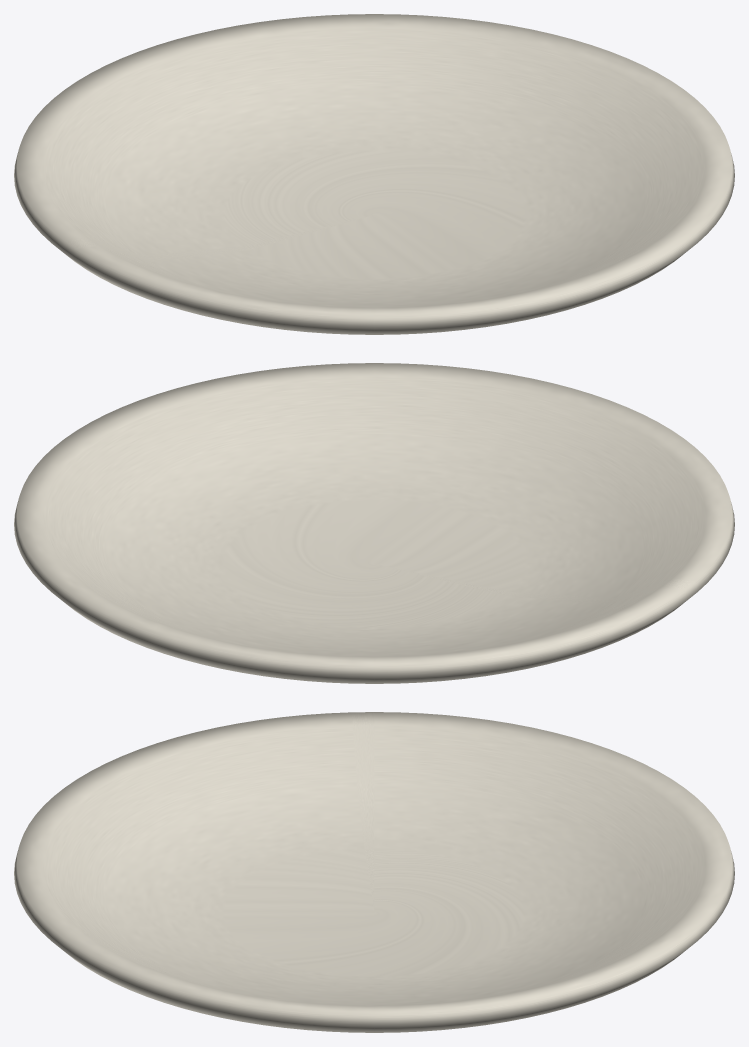
File: intact.glb
3 renders of one model, top to bottom at view 1: azimuth 30°, elevation 25°; view 2: azimuth 150°, elevation 25°; view 3: azimuth 270°, elevation 25°, orthographic.
Parts seen in each view (by area): view 1: plate-component-000-ivory; view 2: plate-component-000-ivory; view 3: plate-component-000-ivory.
Part boxes in pixels (<box>): plate-component-000-ivory: <box>14,14,734,334</box>; plate-component-000-ivory: <box>14,363,734,683</box>; plate-component-000-ivory: <box>14,712,734,1032</box>.
Bounding box in the file's own units: 0.25 × 0.026 × 0.25.
1 material, 1 textured.
